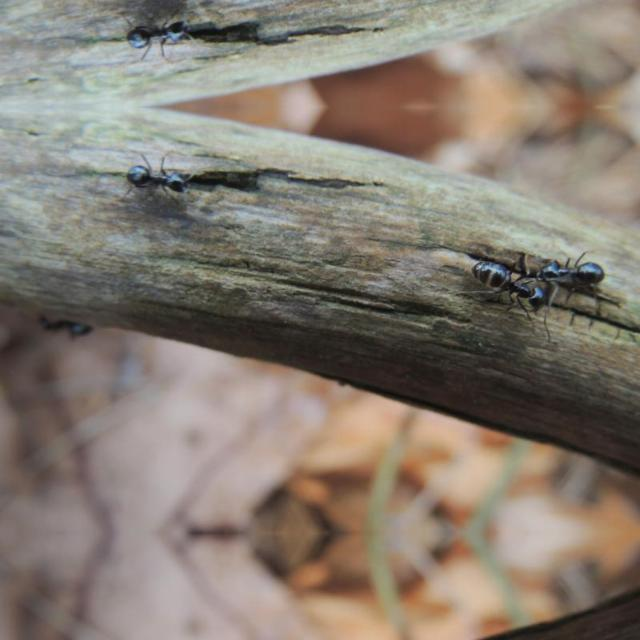Lasius: (455, 250, 547, 318), (124, 151, 196, 205), (124, 7, 196, 61), (533, 246, 613, 288), (24, 300, 104, 338)
